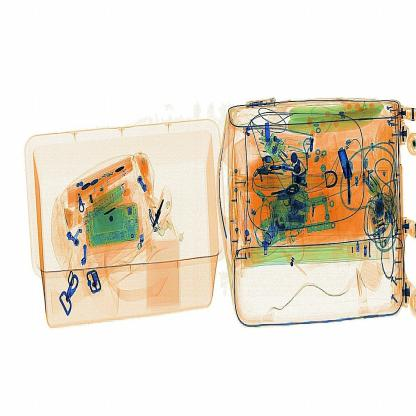knife: (334, 155, 361, 210)
